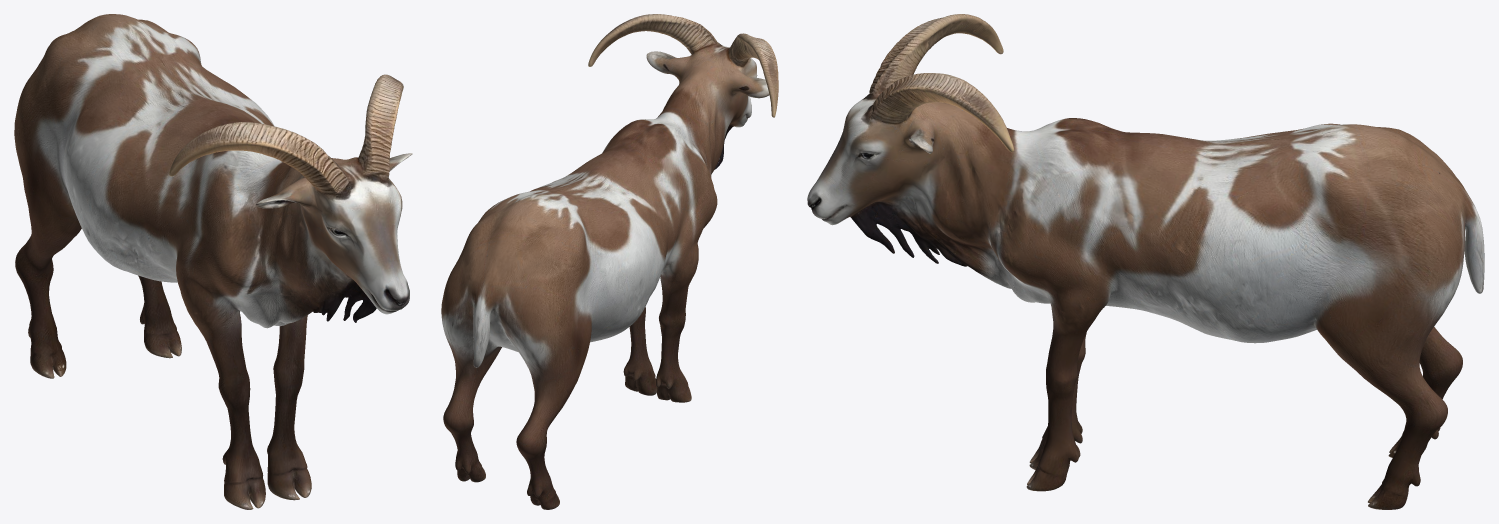
The model's file is goat.glb.
The picture shows the model from 3 angles, left to right: view 1: azimuth 30°, elevation 25°; view 2: azimuth 150°, elevation 25°; view 3: azimuth 270°, elevation 25°; orthographic projection. The views are drawn at different scales.
Bounding box in the file's own units: 0.745 × 1.33 × 1.9.
Materials: 1 (1 with a texture image).
